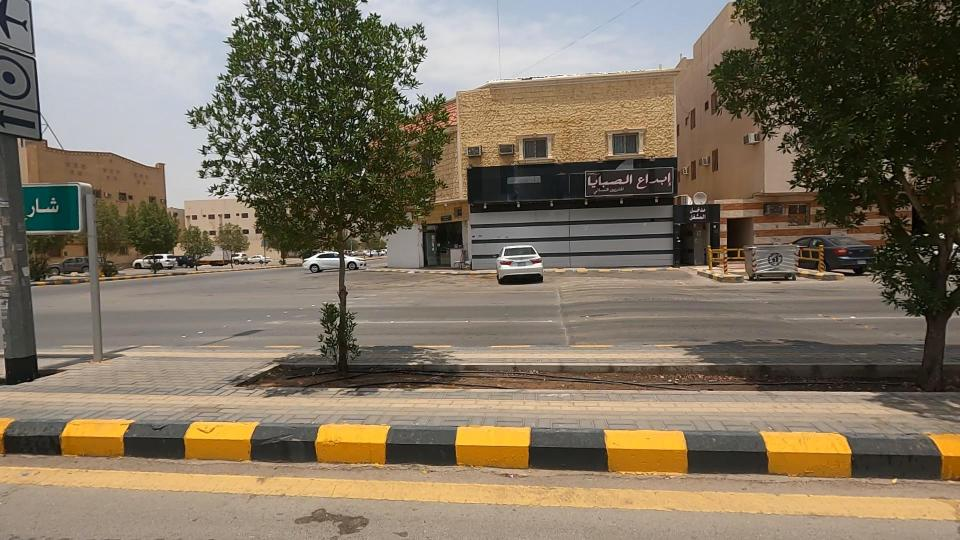BAD_BILLBOARD: (423, 139, 613, 231)
CLUTTER_SIDEWALK: (277, 303, 923, 433)
